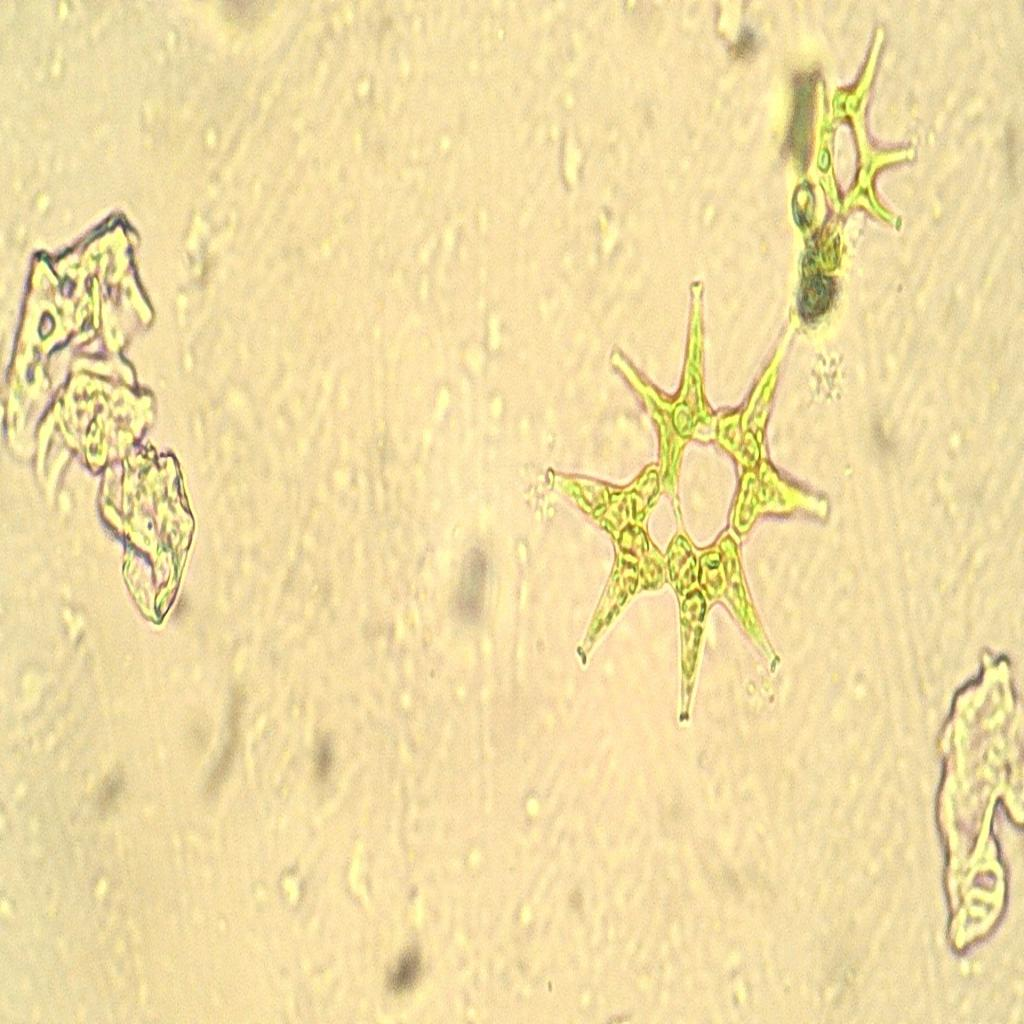Pediastrum_75FO: (521, 265, 836, 733)
